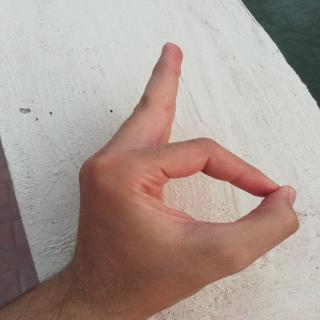Space: (74, 41, 308, 307)
